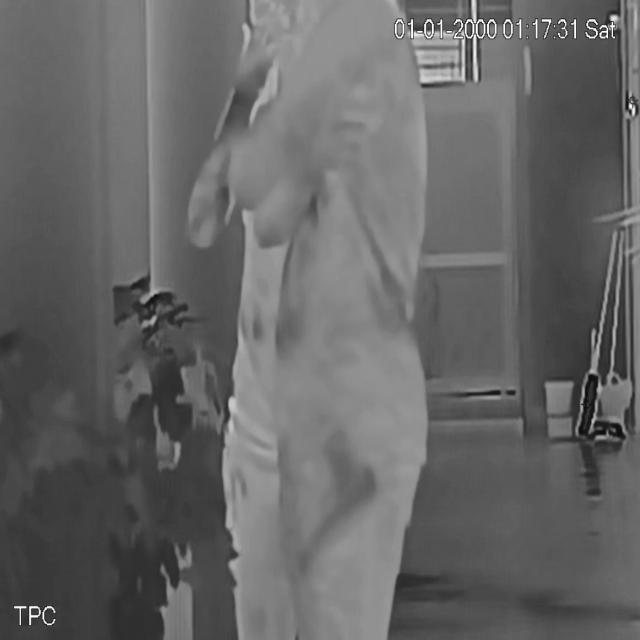Weapon: (286, 418, 388, 585)
